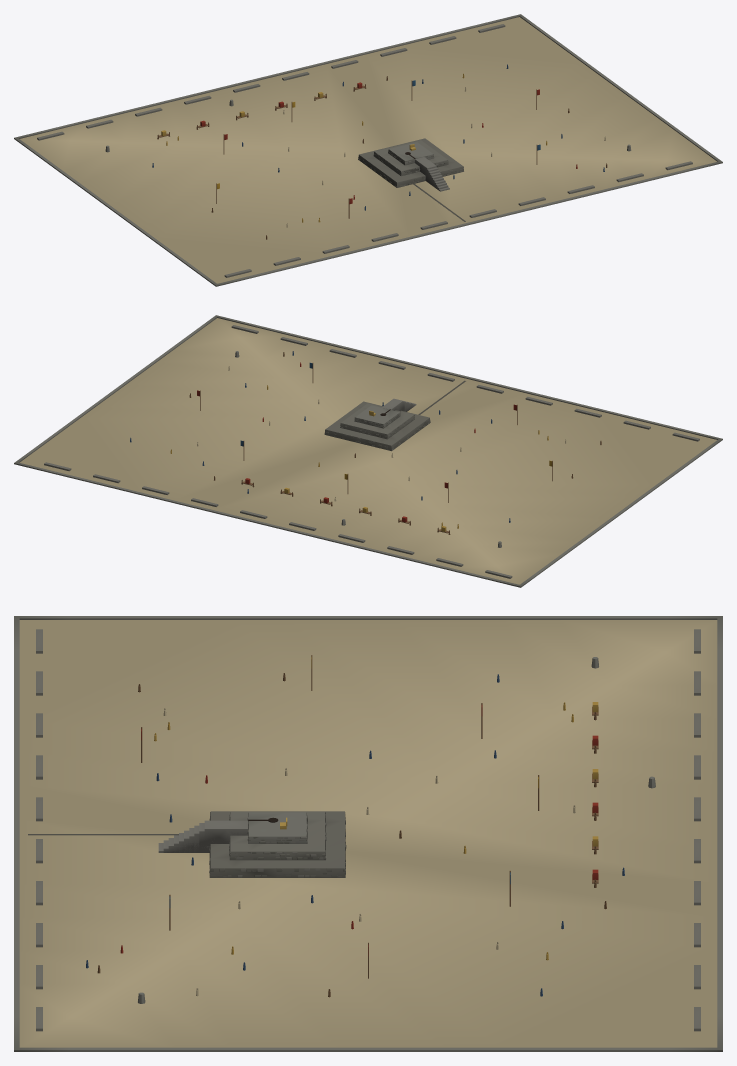
File: haukaypata.glb
3 renders of one model, top to bottom at view 1: azimuth 30°, elevation 25°; view 2: azimuth 150°, elevation 25°; view 3: azimuth 270°, elevation 25°, orthographic. The views are drawn at different scales.
Visible parts, largest first — view 1: p0_plaza, p1_ushnu, p2_feast; view 2: p0_plaza, p1_ushnu, p2_feast; view 3: p0_plaza, p1_ushnu, p2_feast.
Boxes of the visible parts, x1,y1,x2,y2 form: p0_plaza: (14,14,722,286); p1_ushnu: (37,24,692,277); p2_feast: (152,64,607,239); p0_plaza: (14,315,722,587); p1_ushnu: (44,325,699,578); p2_feast: (130,351,601,534); p0_plaza: (14,616,722,1051); p1_ushnu: (28,629,700,1031); p2_feast: (86,655,624,997).
Bounding box in the file's own units: 181 × 7.22 × 125.
